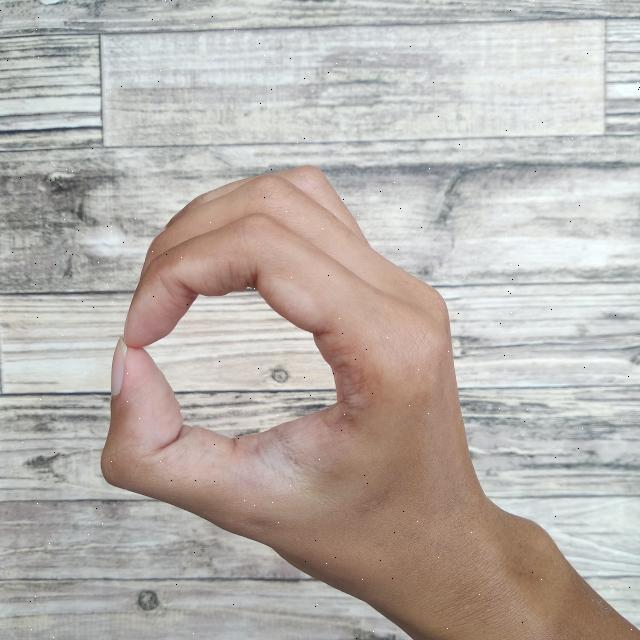O: (97, 157, 624, 640)
